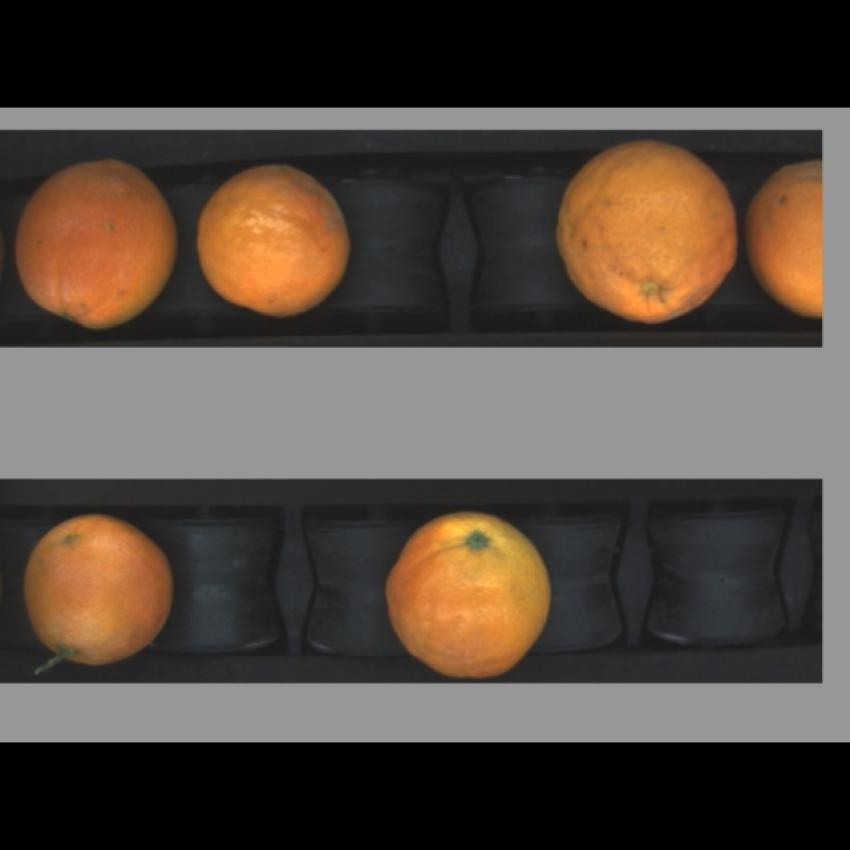Mal estado: (550, 133, 742, 326), (12, 150, 182, 338), (380, 501, 555, 680), (19, 507, 185, 675), (193, 161, 360, 322), (744, 150, 823, 320)
